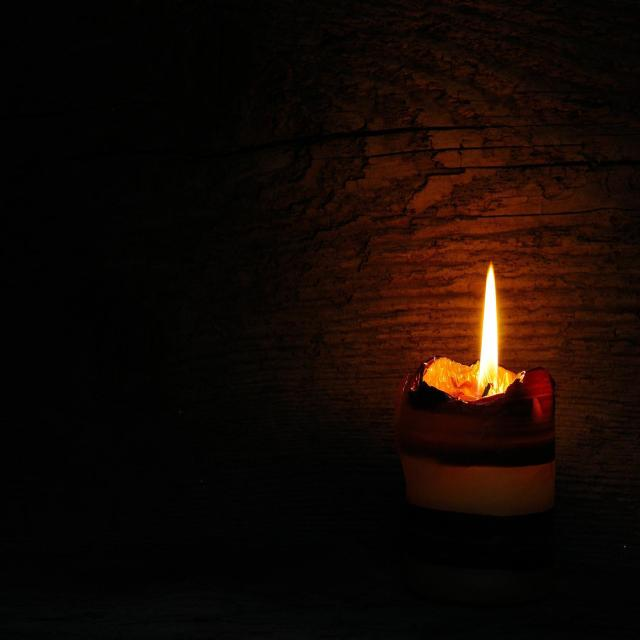Fire_Save: (392, 260, 556, 518)
